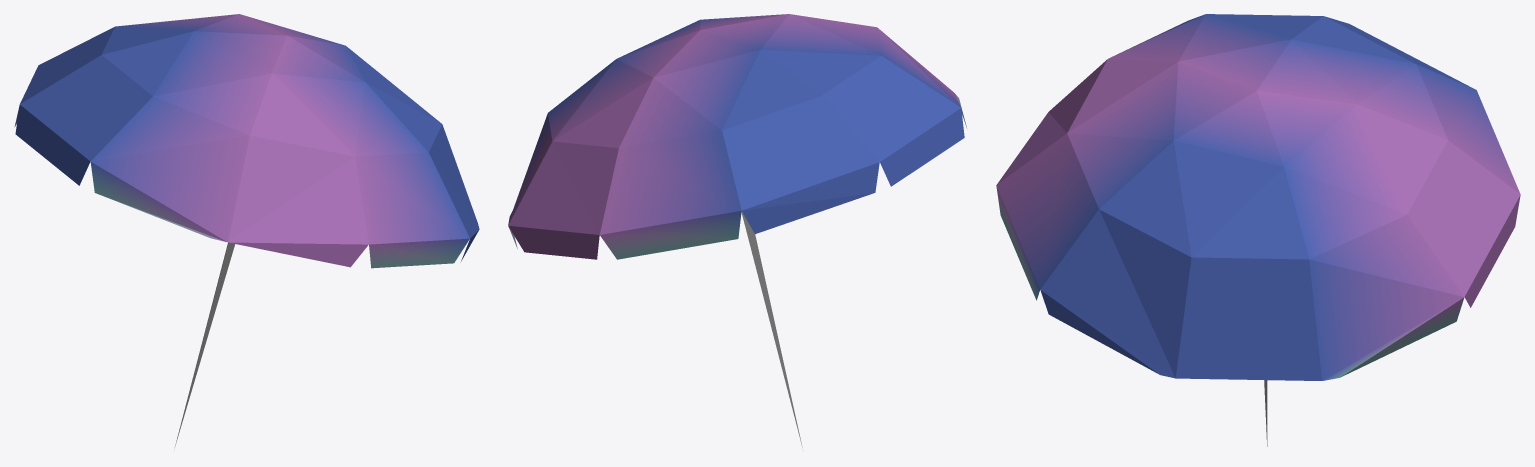
The model's file is bay-parasol.lod2.glb.
The picture shows the model from 3 angles, left to right: view 1: azimuth 30°, elevation 25°; view 2: azimuth 150°, elevation 25°; view 3: azimuth 270°, elevation 25°; orthographic projection. The views are drawn at different scales.
Parts seen in each view (by area): view 1: Gray-material; view 2: Gray-material; view 3: Gray-material.
Boxes of the visible parts, x1,y1,x2,y2 form: Gray-material: [14, 14, 479, 447]; Gray-material: [508, 14, 966, 447]; Gray-material: [996, 14, 1520, 446].
Bounding box in the file's own units: 2.44 × 2.4 × 2.65.
